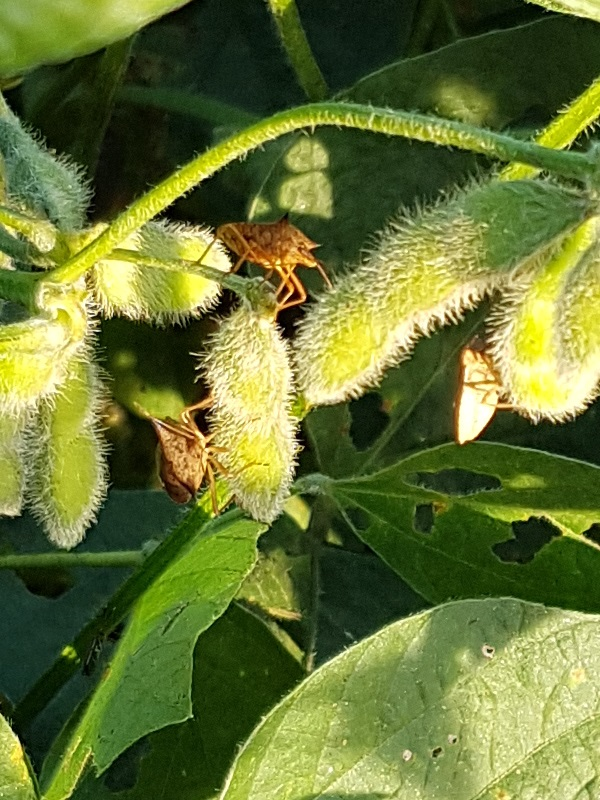Euschistus_heros_adulto: (139, 380, 277, 533), (186, 195, 343, 326), (437, 312, 548, 456)
